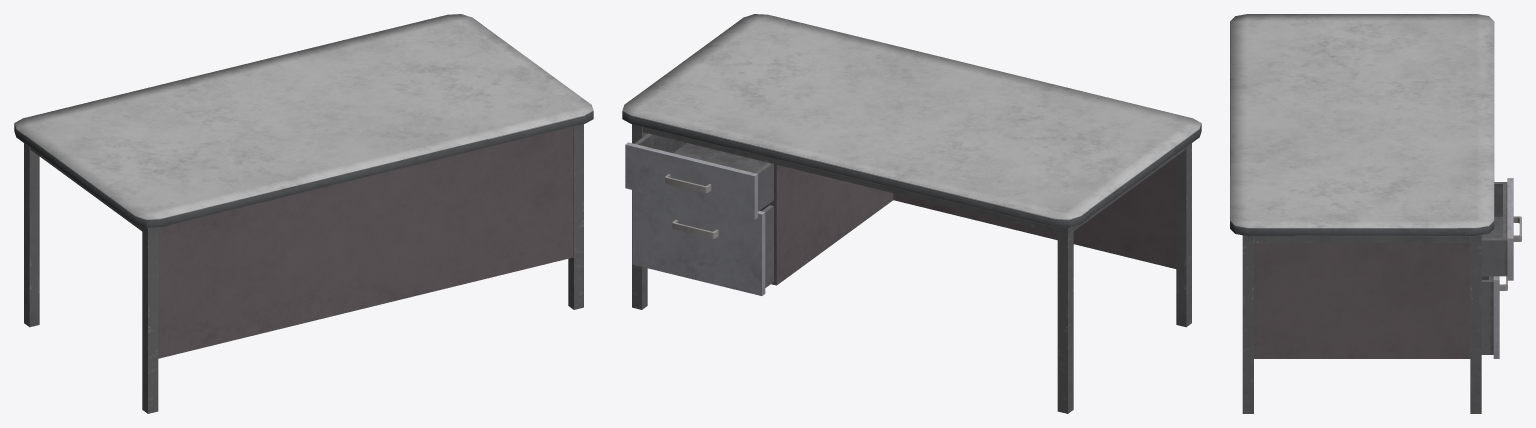
Rendered from teacher_desk.glb.
3 renders of one model, left to right at view 1: azimuth 30°, elevation 25°; view 2: azimuth 150°, elevation 25°; view 3: azimuth 270°, elevation 25°, orthographic. The views are drawn at different scales.
Parts seen in each view (by area): view 1: LegsBase_low; view 2: LegsBase_low, BDrawer_low, Handle01_low; view 3: LegsBase_low, Handle01_low, BDrawer_low.
Part boxes in pixels (x1,y1,x2,y2): LegsBase_low: [14, 14, 593, 413]; LegsBase_low: [622, 14, 1201, 413]; BDrawer_low: [632, 190, 773, 295]; Handle01_low: [625, 133, 773, 219]; LegsBase_low: [1230, 14, 1494, 413]; Handle01_low: [1481, 178, 1521, 280]; BDrawer_low: [1481, 276, 1507, 358].
Bounding box in the file's own units: 2.06 × 0.8551 × 1.19.
1 material, 1 textured.
